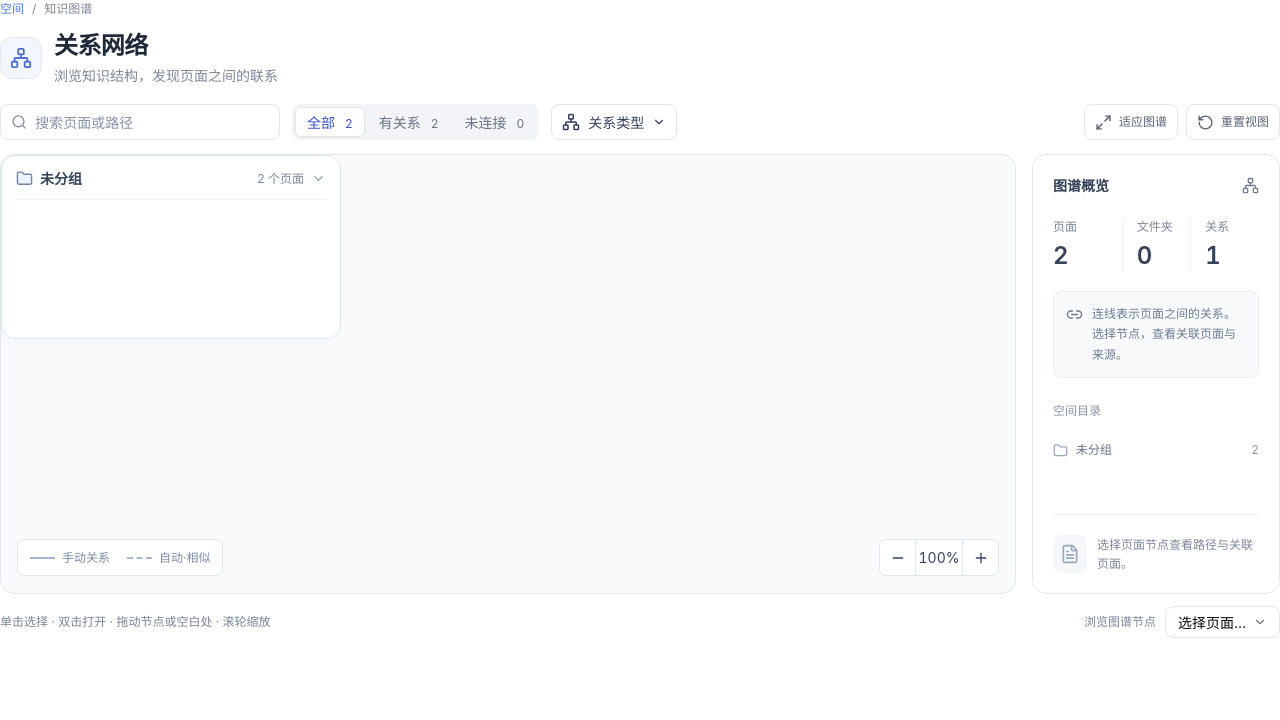
Test: KnowledgeGraph origin filters › localizes a graph relation create permission denial
Select "Alpha" in the dropdown labelled "浏览图谱节点" at x=1222, y=622, box top-left (1165, 606), bottom-right (1279, 638)
(page scrolled)
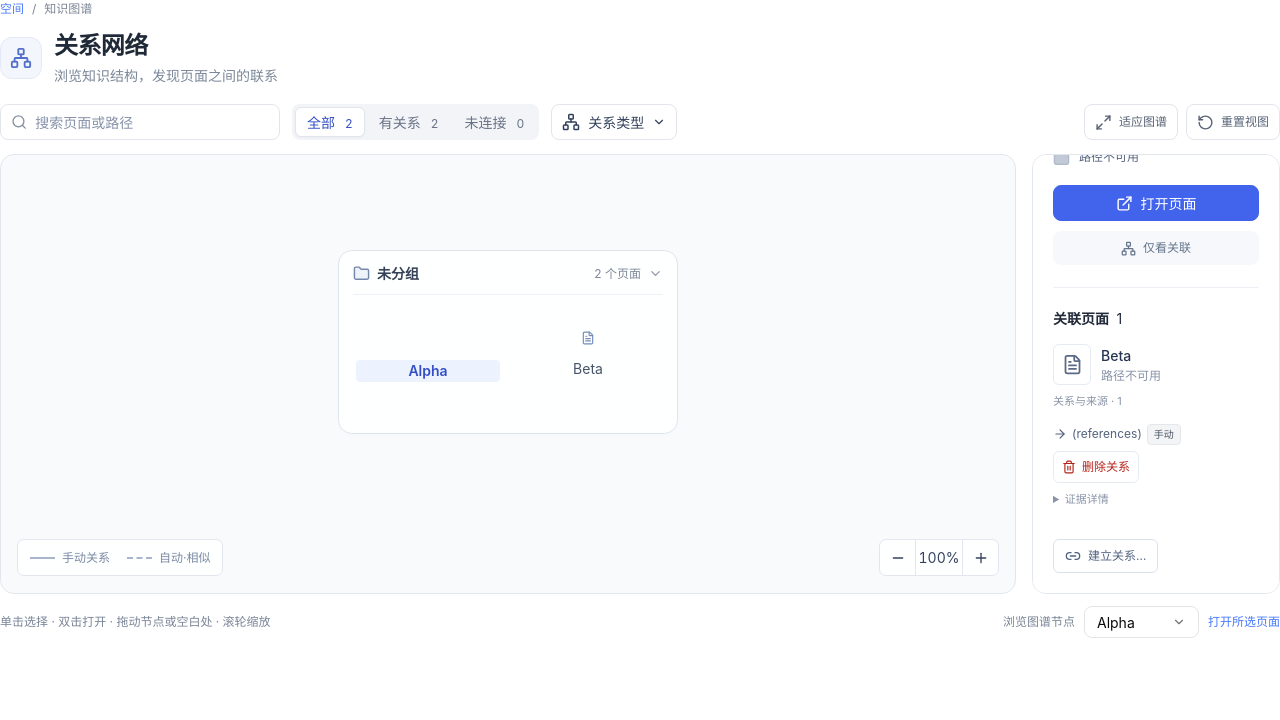
Click the button "建立关系…" at x=1106, y=556, box top-left (1053, 539), bottom-right (1158, 573)
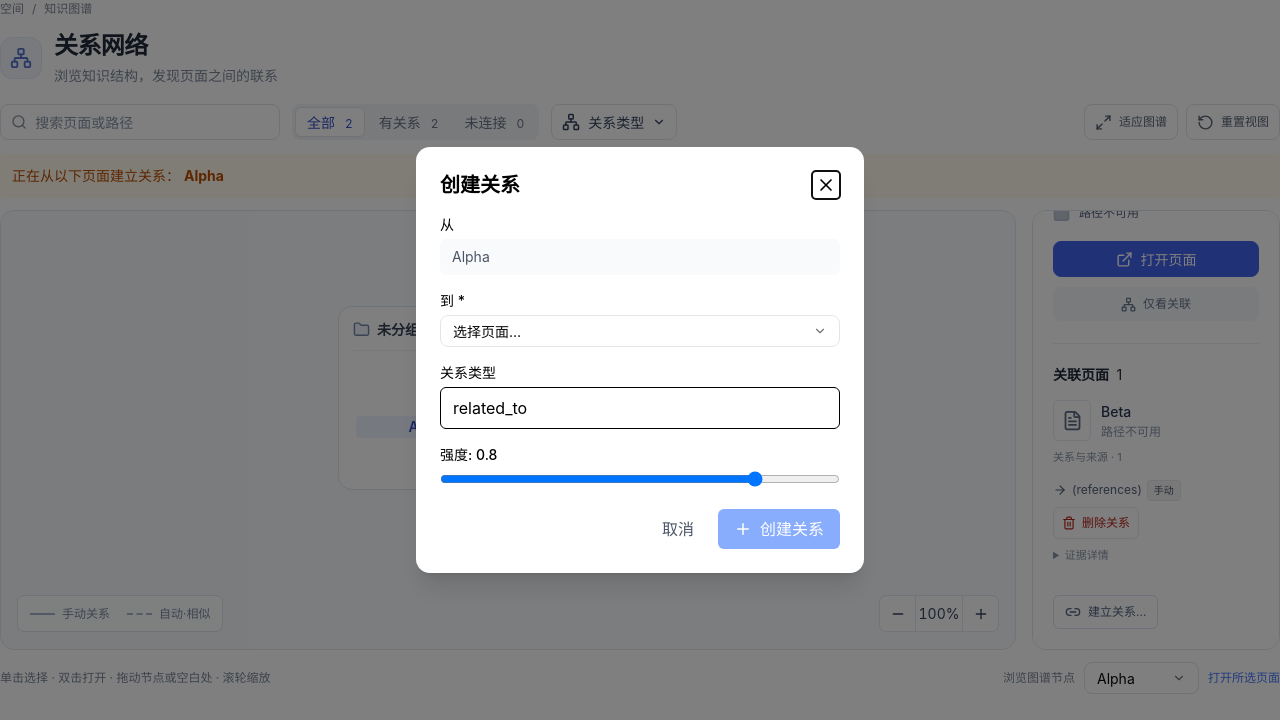
Select "Beta" in the dropdown at x=640, y=331, box top-left (440, 315), bottom-right (840, 347)
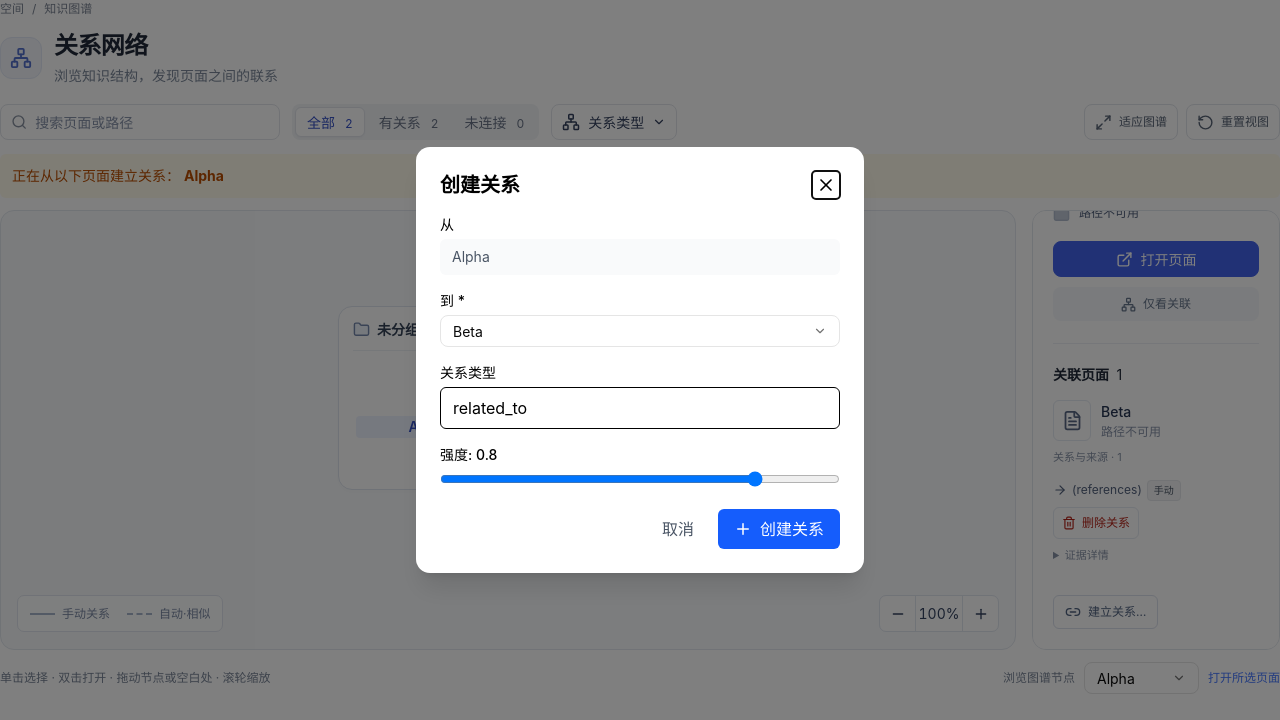
Click the button "创建关系" at x=779, y=529, box top-left (718, 509), bottom-right (840, 549)
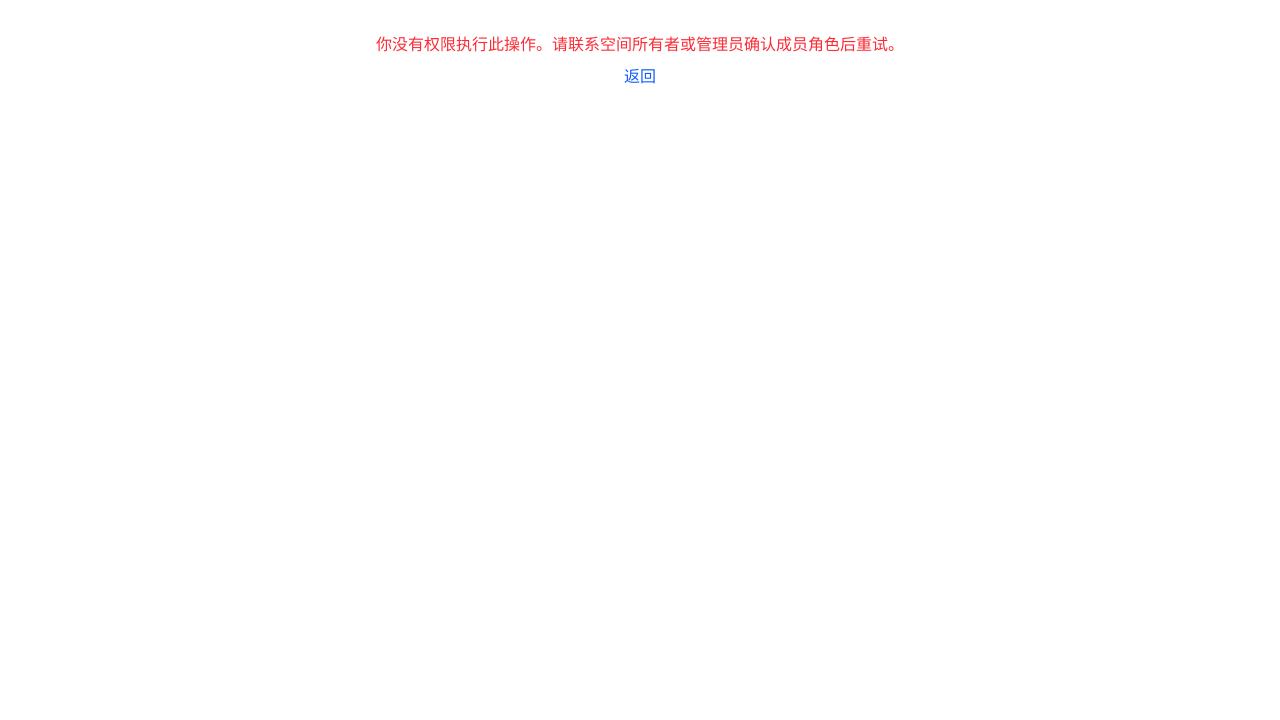
Expected: the text "你没有权限执行此操作。请联系空间所有者或管理员确认成员角色后重试。" is shown, top-left (376, 34), bottom-right (904, 54)
